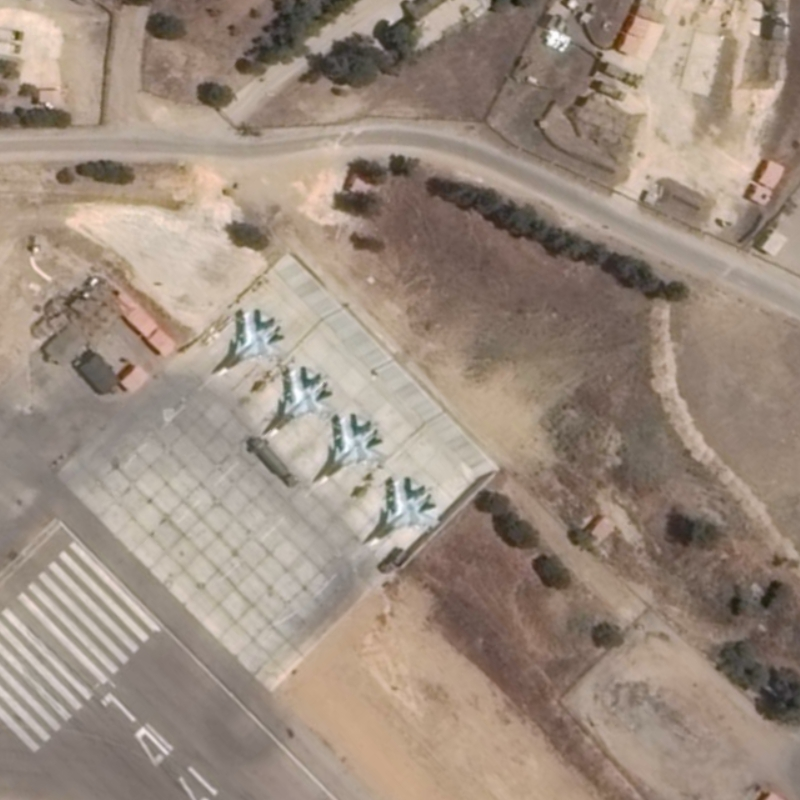A19: (307, 411, 395, 490), (361, 472, 443, 552), (210, 303, 289, 379), (260, 364, 336, 442)
